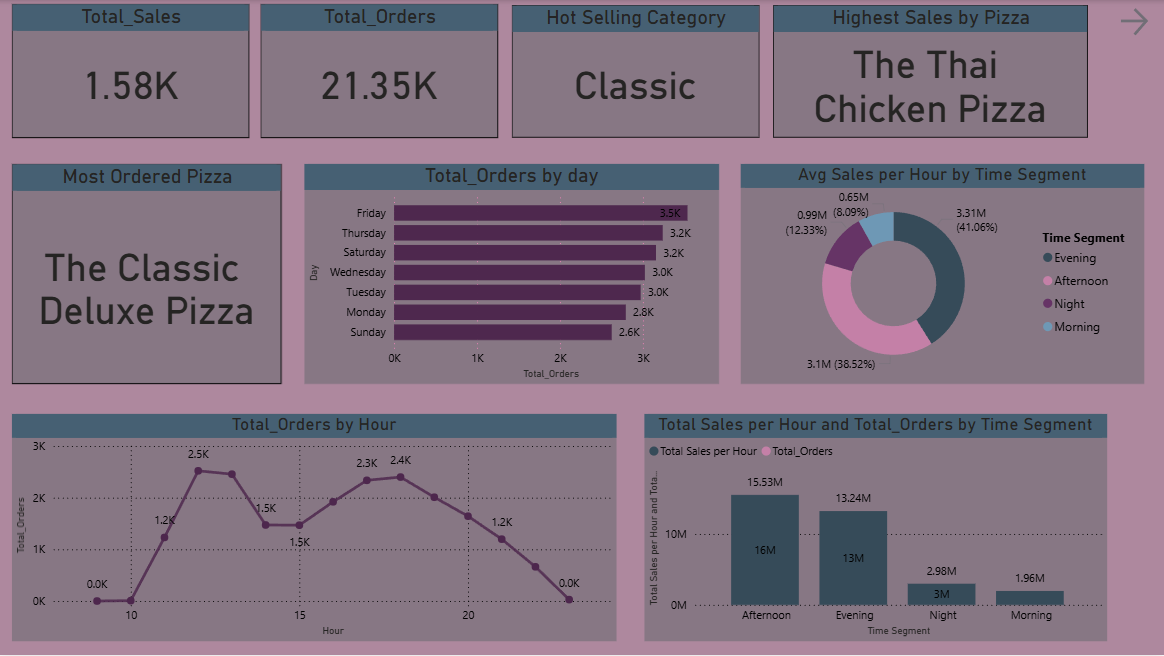

What the dashboard file says about the page in this screenshot:
{"tool":"powerbi","page":{"name":"Page 1","canvas":[1280,720],"ordinal":0},"visuals":[{"type":"card","title":"Total_Sales","fields":{"Values":["pizzas.Total_Sales"]},"box":[15.1,4.1,260.7,146.8],"z":0},{"type":"card","title":"Total_Orders","fields":{"Values":["CountNonNull(orders.order_id)"]},"box":[288.2,4.1,260.7,146.8],"z":1000},{"type":"card","title":"Most Ordered Pizza","fields":{"Values":["pizza_types.Most Ordered Pizza"]},"box":[15.1,179.8,296.4,241.5],"z":2000},{"type":"card","title":"Highest Sales by Pizza","fields":{"Values":["order_details.Top Sold Pizza"]},"box":[850.8,5.5,345.8,145.5],"z":3000},{"type":"card","title":"Hot Selling Category","fields":{"Values":["pizza_types.Hot Selling Category"]},"box":[564,5.5,271.7,145.5],"z":4000},{"type":"clusteredBarChart","title":"Total_Orders by  day","fields":{"Y":["orders.Total_Orders"],"Category":["orders.Day"]},"box":[336.2,179.8,455.6,241.5],"z":5000},{"type":"donutChart","fields":{"Category":["orders.Time Segment"],"Y":["orders.Avg Sales per Hour"]},"box":[815.1,179.8,443.2,241.5],"z":6000},{"type":"lineChart","fields":{"Y":["orders.Total_Orders"],"Category":["orders.Hour"]},"box":[15.1,454.2,664.2,249.7],"z":7000},{"type":"columnChart","fields":{"Y":["orders.Total Sales per Hour","orders.Total_Orders"],"Category":["orders.Time Segment"]},"box":[709.4,454.2,507.7,249.7],"z":8000},{"type":"actionButton","box":[1226.8,4.1,53.5,39.8],"z":9000}]}

Visuals, with their boxes in screenshot pixels (x1, y1, x2, y2), scaled from the page's 1280x720 canvas onto the 1164x656 screenshot:
"Total_Sales" card: [x1=14, y1=4, x2=251, y2=137]
"Total_Orders" card: [x1=262, y1=4, x2=499, y2=137]
"Most Ordered Pizza" card: [x1=14, y1=164, x2=283, y2=384]
"Highest Sales by Pizza" card: [x1=774, y1=5, x2=1088, y2=138]
"Hot Selling Category" card: [x1=513, y1=5, x2=760, y2=138]
"Total_Orders by  day" clusteredBarChart: [x1=306, y1=164, x2=720, y2=384]
donutChart - orders.Time Segment x orders.Avg Sales per Hour: [x1=741, y1=164, x2=1144, y2=384]
lineChart - orders.Total_Orders x orders.Hour: [x1=14, y1=414, x2=618, y2=641]
columnChart - orders.Total Sales per Hour x orders.Total_Orders: [x1=645, y1=414, x2=1107, y2=641]
actionButton: [x1=1116, y1=4, x2=1163, y2=40]
